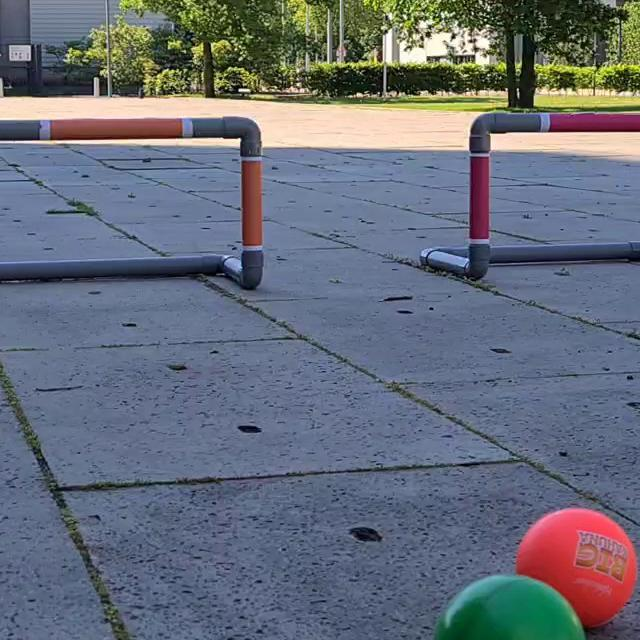ball: (427, 571, 589, 640), (583, 579, 640, 630)
